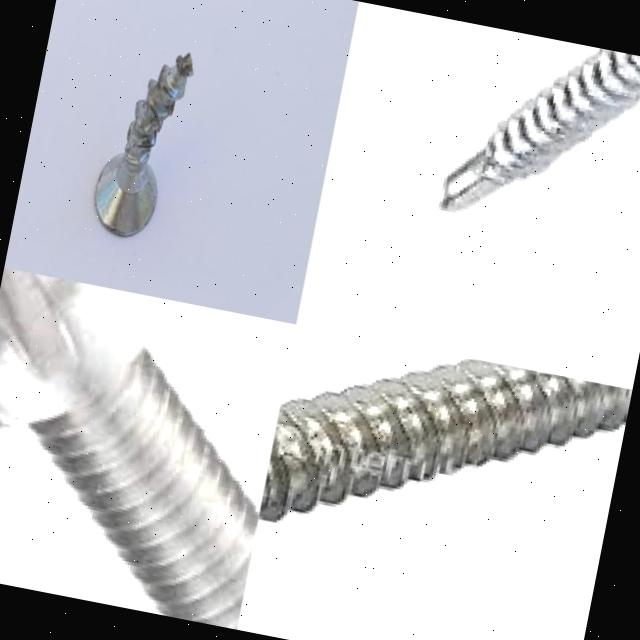Screw: (0, 268, 260, 630), (257, 360, 632, 526), (441, 48, 640, 215), (96, 52, 194, 236)
